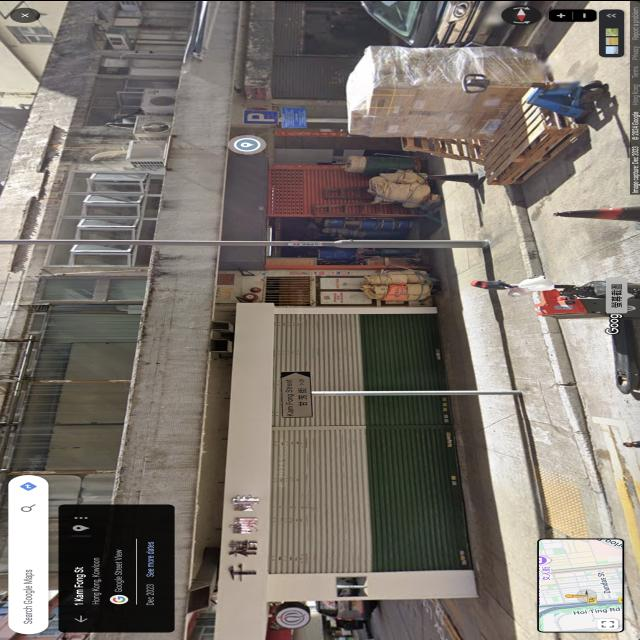Street-Direction-Sign: (281, 370, 313, 416)
